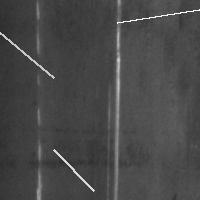scratches: (0, 17, 59, 83), (108, 1, 123, 200), (48, 144, 98, 195), (112, 4, 200, 27), (31, 48, 42, 199), (31, 1, 44, 59)
